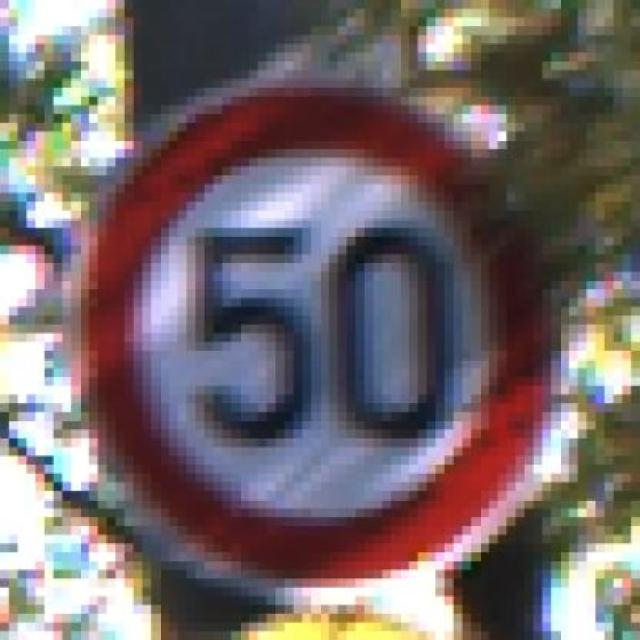Speed limit 50: (86, 81, 557, 592)
